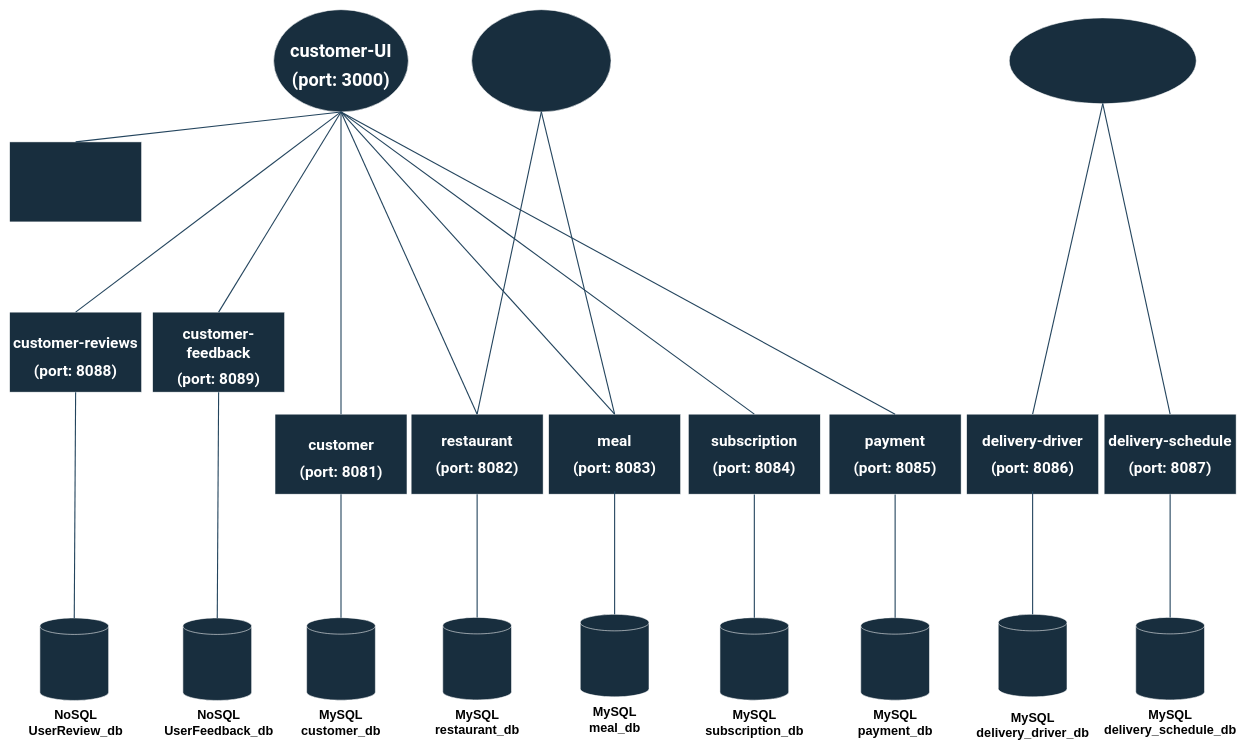
This 1246x751 diagram has some shape labels left out. The box of each missing label's shape, as (x1, y1, x2, y2) in pixels:
delivery-driver- UI (port: 3002): (1009, 17, 1196, 104)
email-notification service (port: 8090): (9, 141, 142, 222)
restaurant-UI (port: 3001): (471, 9, 611, 112)
